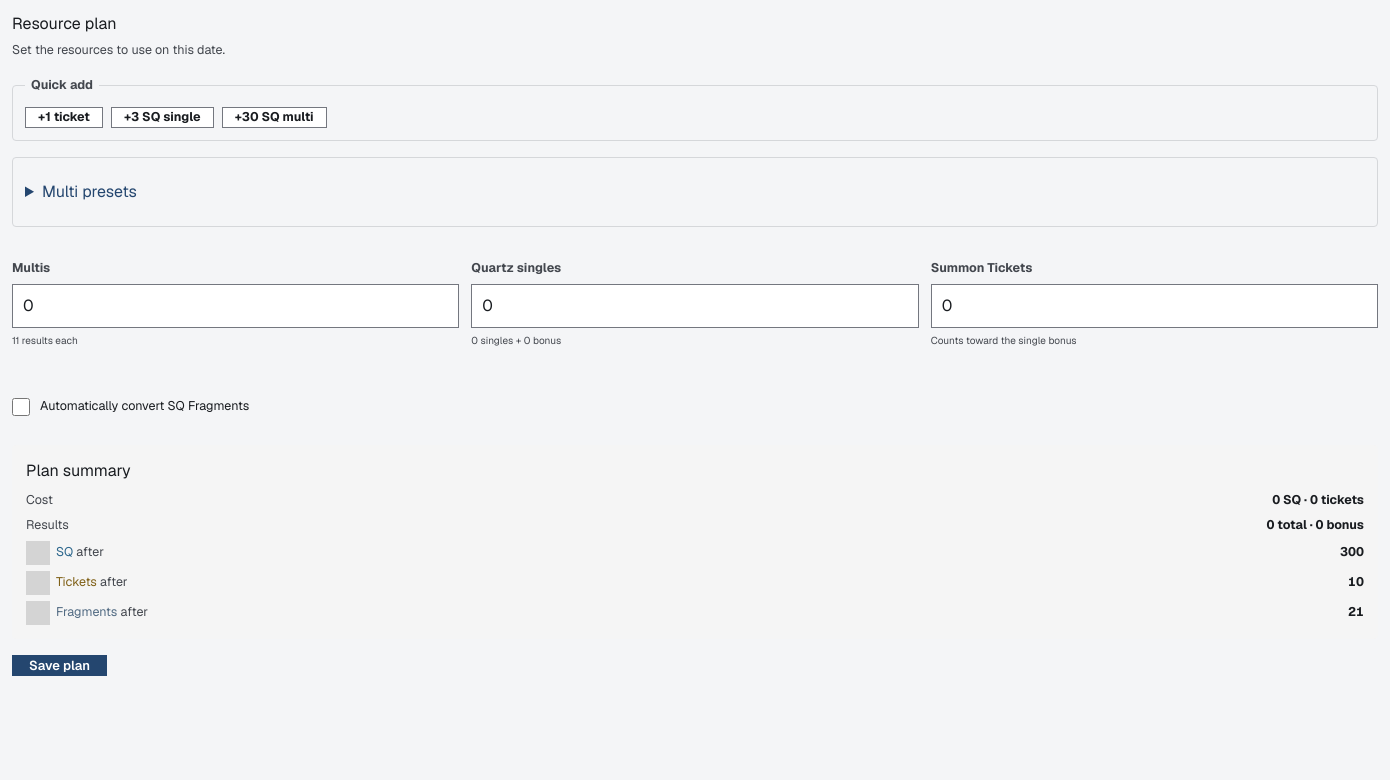
Test: mounted summon planning workflow › requires a target even when the user has entered spending
Click the button "+1 ticket".
click(64, 117)  # box [25,107,103,128]
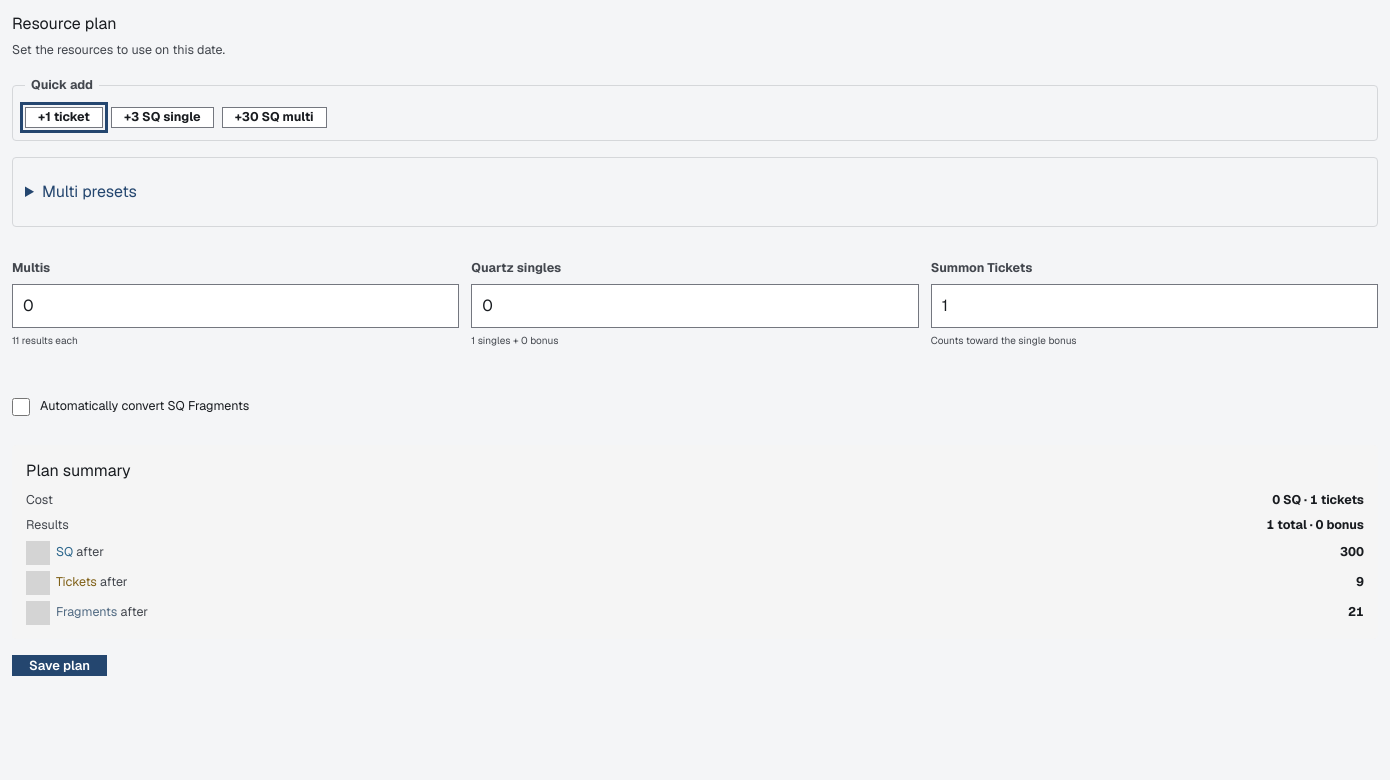
Click the button "Save plan".
click(60, 665)  # box [12,655,107,676]
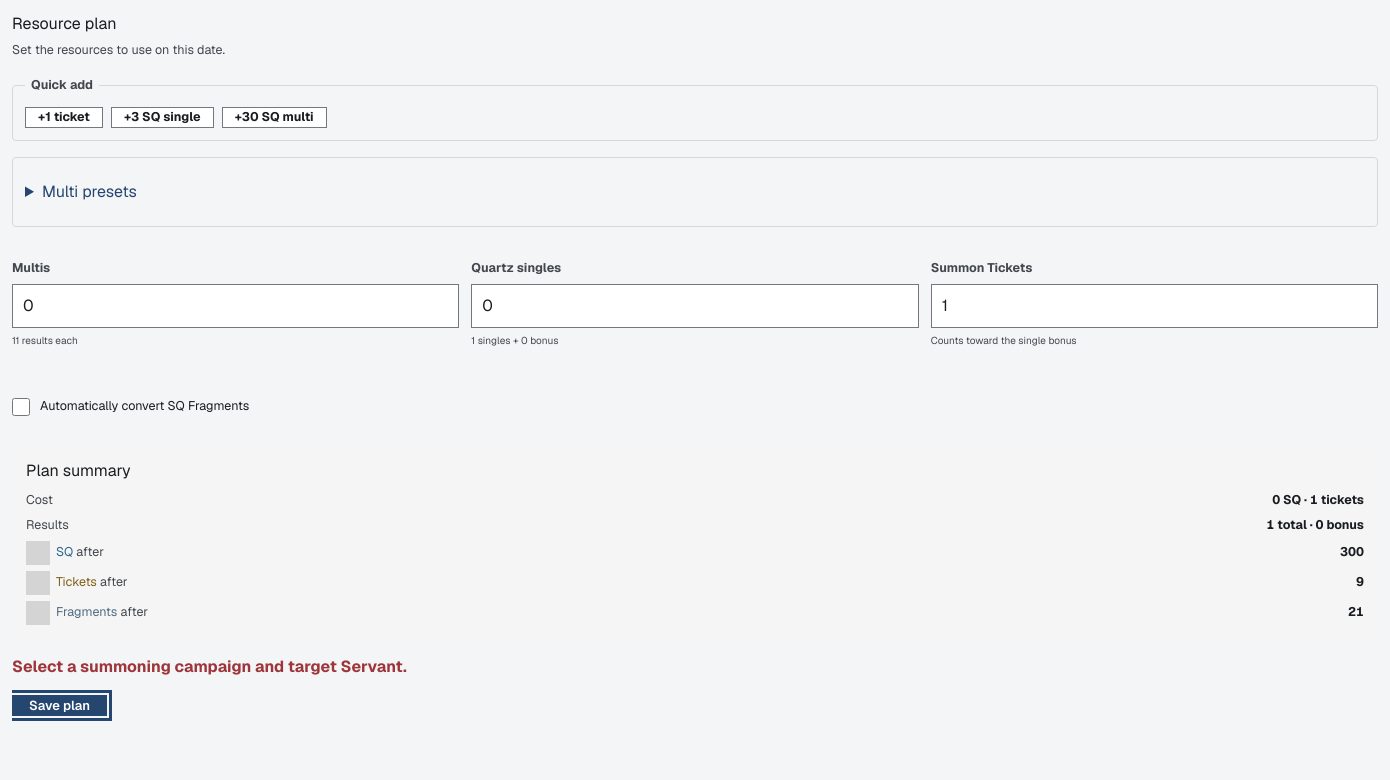
Check: the message reads "Select a summoning campaign and target Servant.", box [12,656,407,677]
